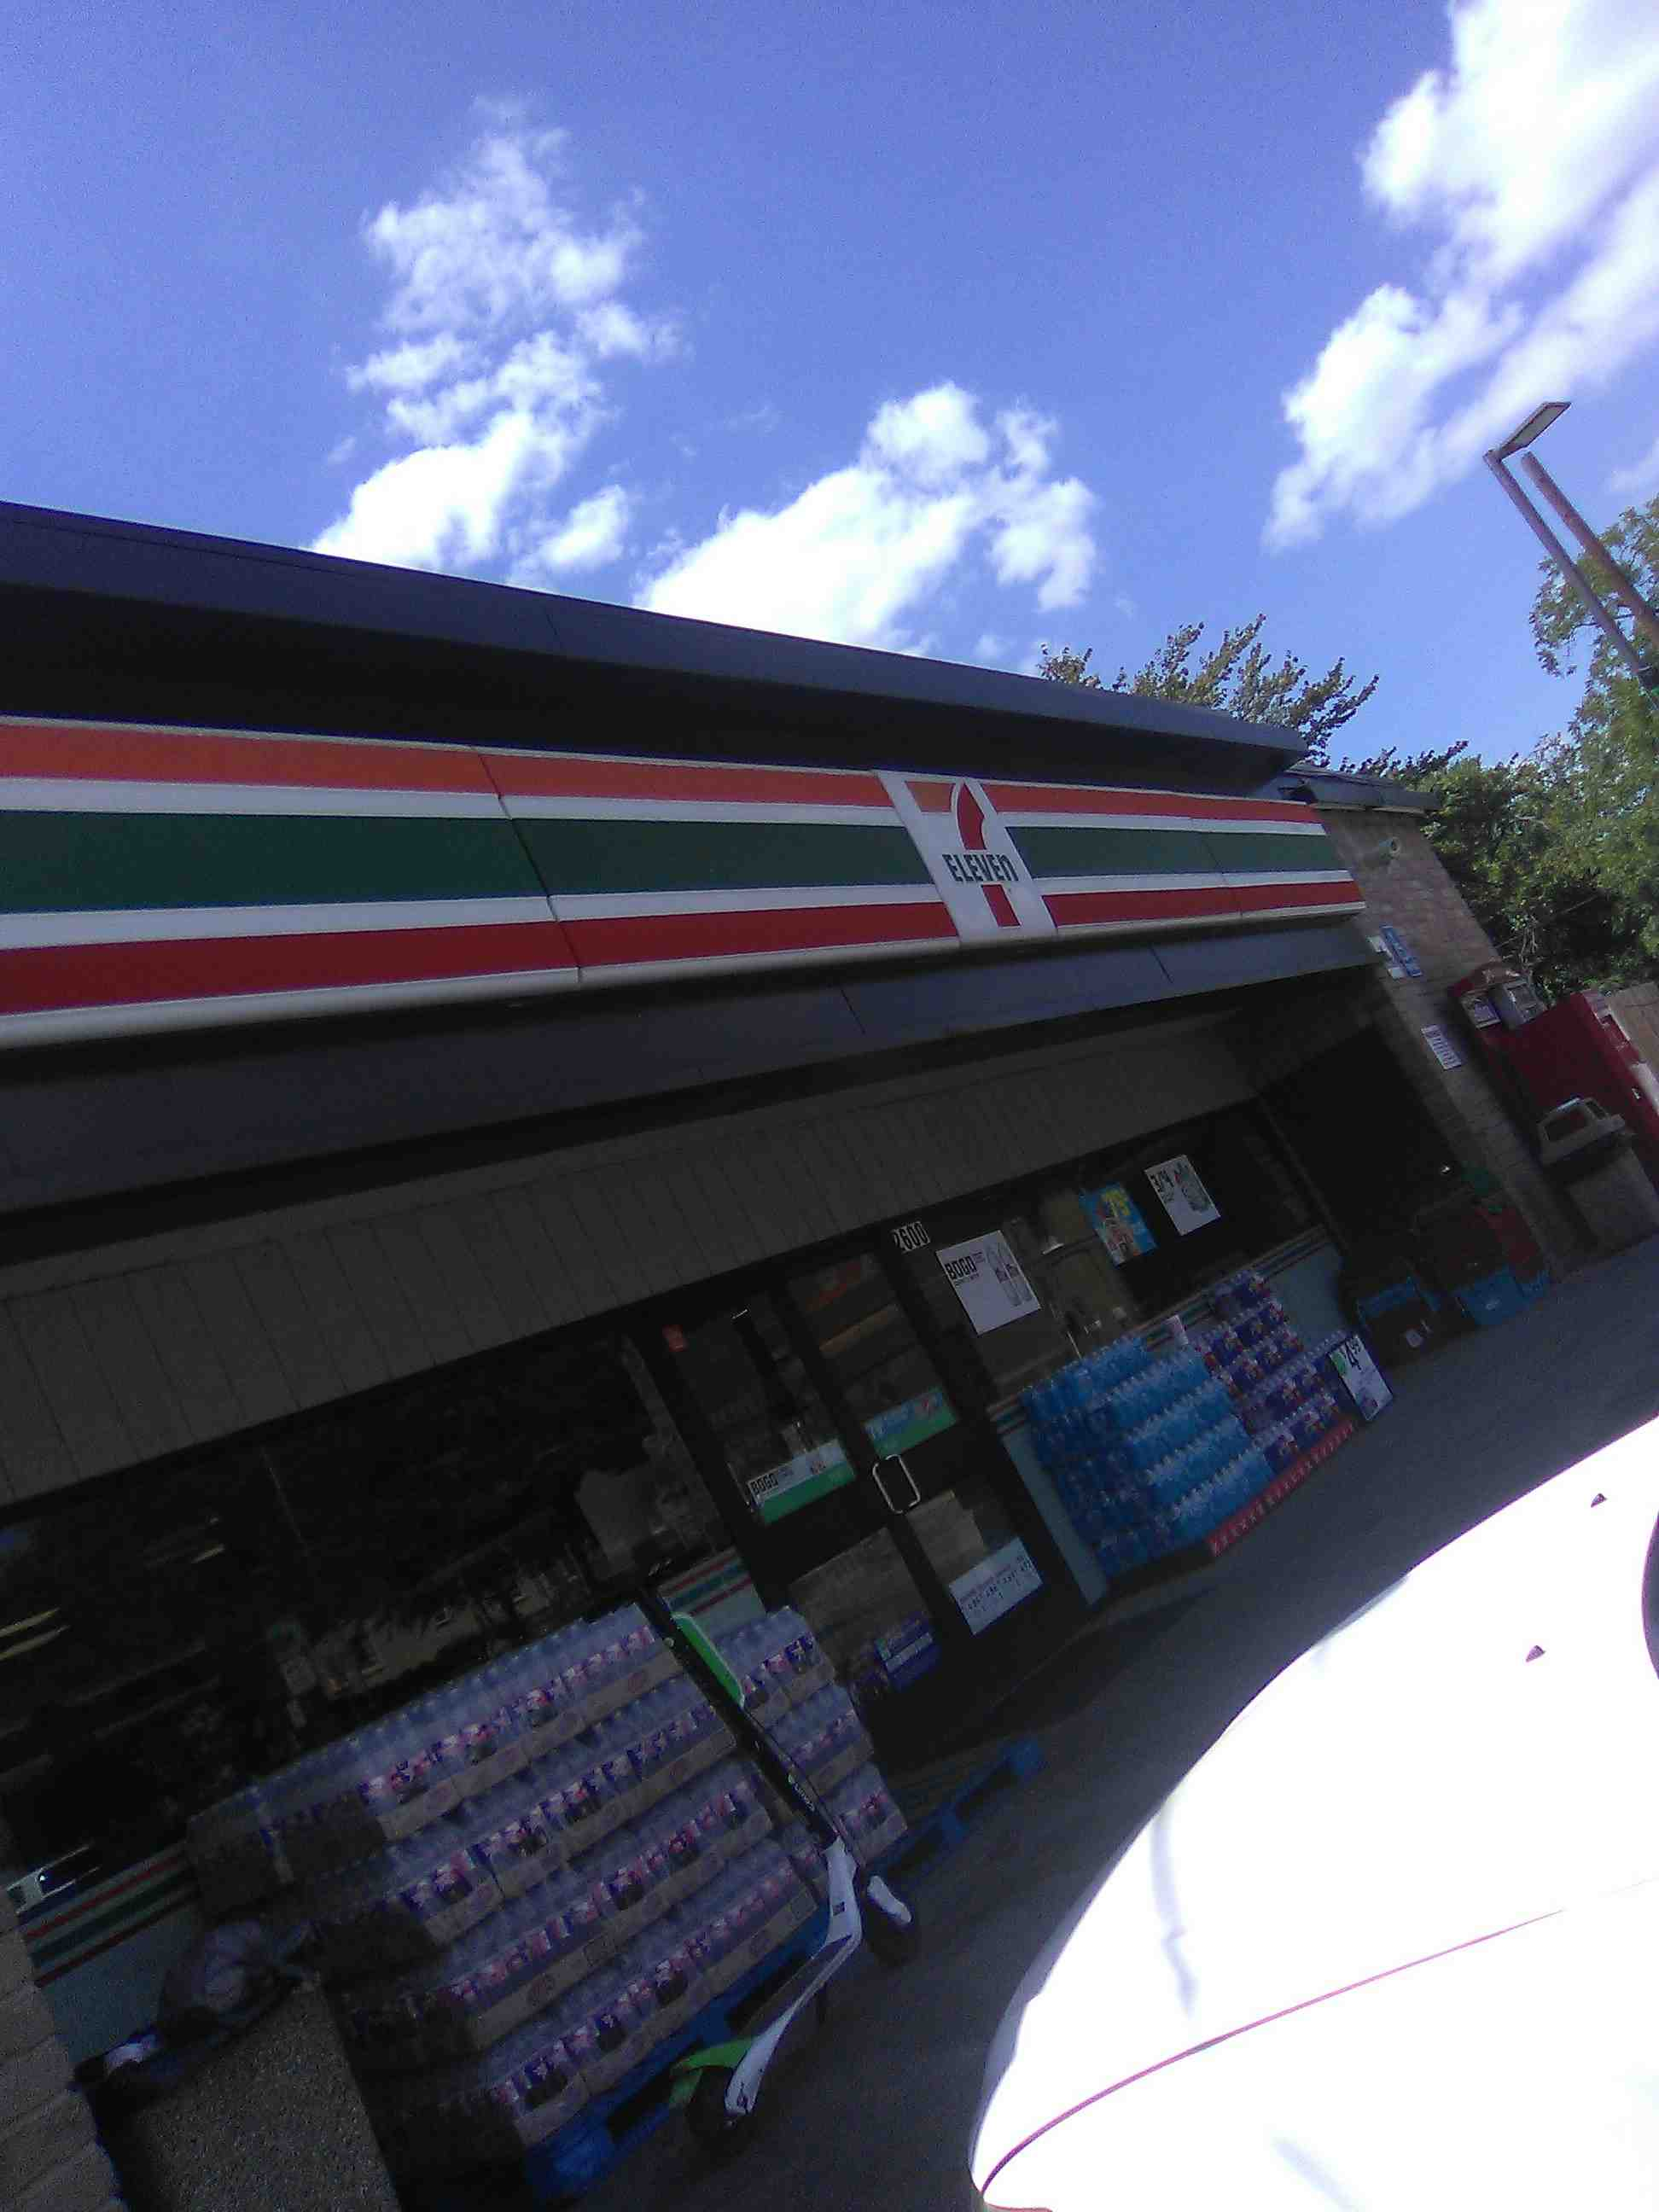scooter: (538, 1503, 927, 2144)
